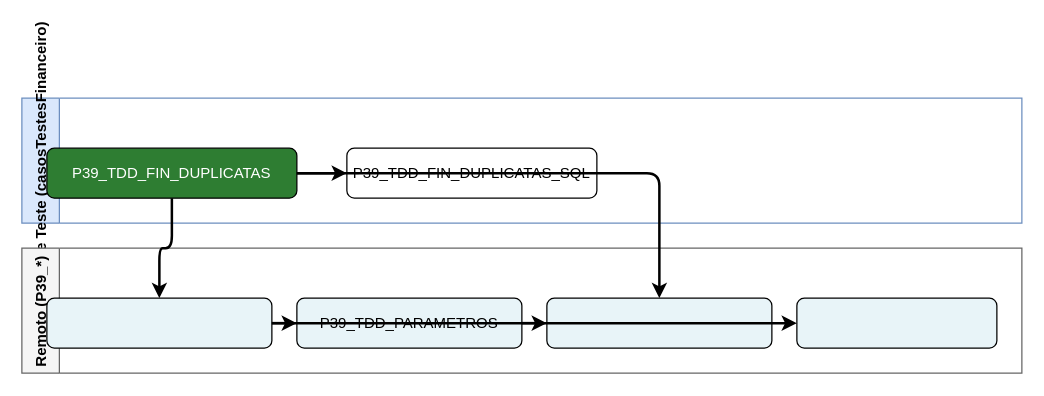
The diagram is 1044 pixels wide and 396 high, and some of its shapes have lost their labels. The shapes that lost their labels are listed below. From the top down, each one's centre as x and y in pixels, then its label:
the point at 159,322: P39_TDD_CASOS_DE_TESTE
the point at 659,322: P39_TDD_FUNCOES_JSON
the point at 896,322: P39_TDD_CONSTANTES
